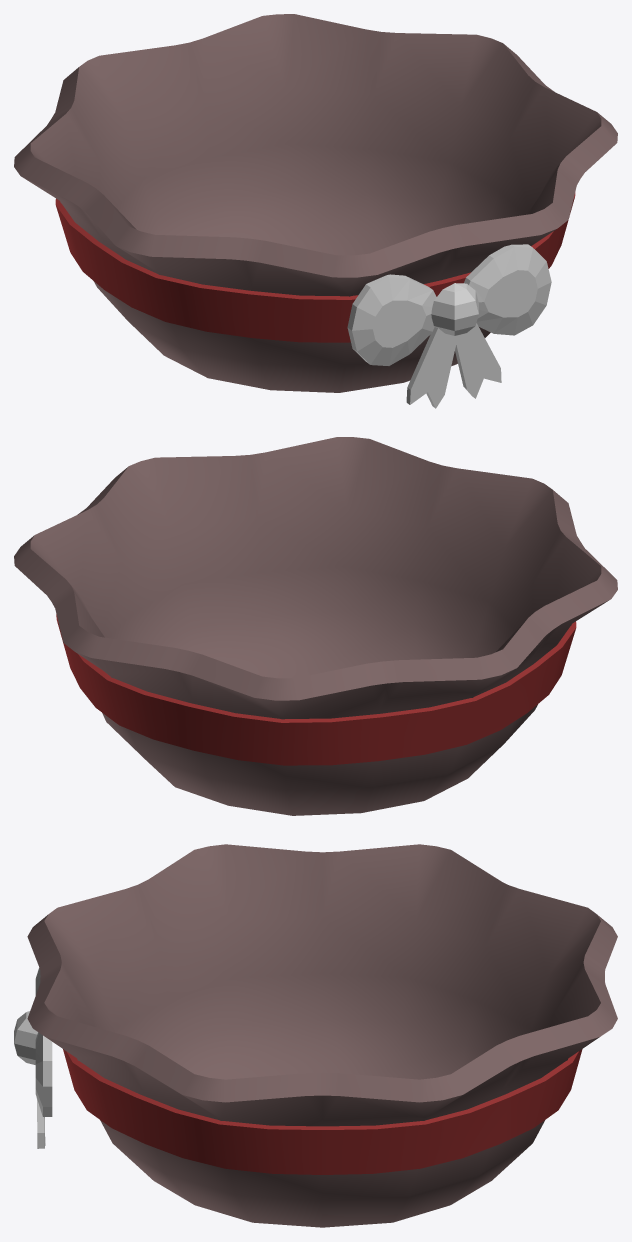
The model's file is boliwang 1.FBX.
3 views of the same model, one above another, from view 1: azimuth 30°, elevation 25°; view 2: azimuth 150°, elevation 25°; view 3: azimuth 270°, elevation 25° (orthographic). The views are drawn at different scales.
Parts seen in each view (by area): view 1: boliwan, hudiejie01, bangdai; view 2: boliwan, bangdai; view 3: boliwan, bangdai, hudiejie01.
Boxes of the visible parts, <box> form: boliwan: <box>14,14,617,392</box>; hudiejie01: <box>347,244,551,408</box>; bangdai: <box>55,192,575,342</box>; boliwan: <box>14,437,617,815</box>; bangdai: <box>56,614,576,765</box>; boliwan: <box>27,844,617,1227</box>; bangdai: <box>63,1049,582,1174</box>; hudiejie01: <box>14,968,52,1148</box>.
Size of the model in its own units: 174 by 71.21 by 178.
